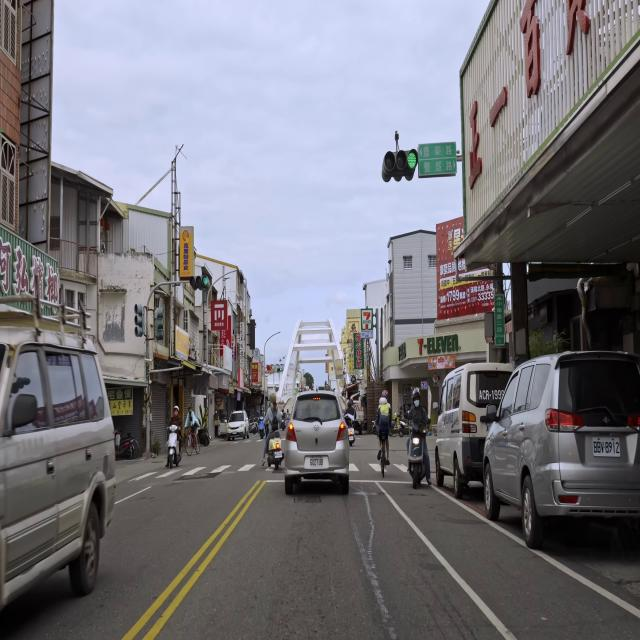green light: (381, 148, 419, 175), (189, 274, 209, 289)
